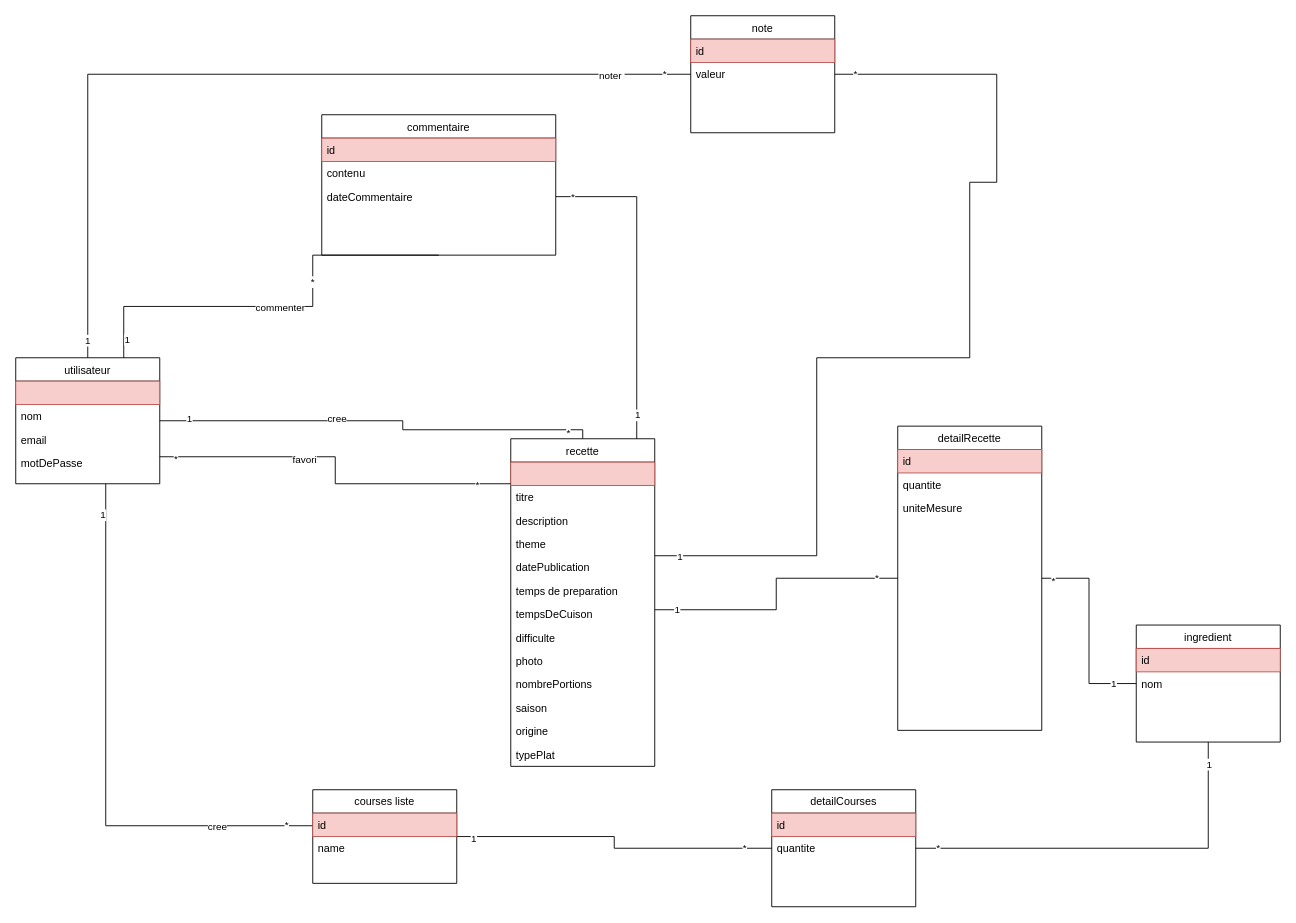
The diagram is 1296 pixels wide and 923 high, and some of its shapes have lost their labels. Each missing label, with the centre of its shape:
idRecette: (582,473)
idUser: (87,392)
